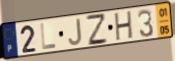2: (18, 23, 39, 56)
3: (137, 8, 155, 39)
H: (114, 10, 134, 43)
J: (67, 17, 83, 47)
L: (39, 21, 58, 51)
Z: (84, 13, 109, 47)
